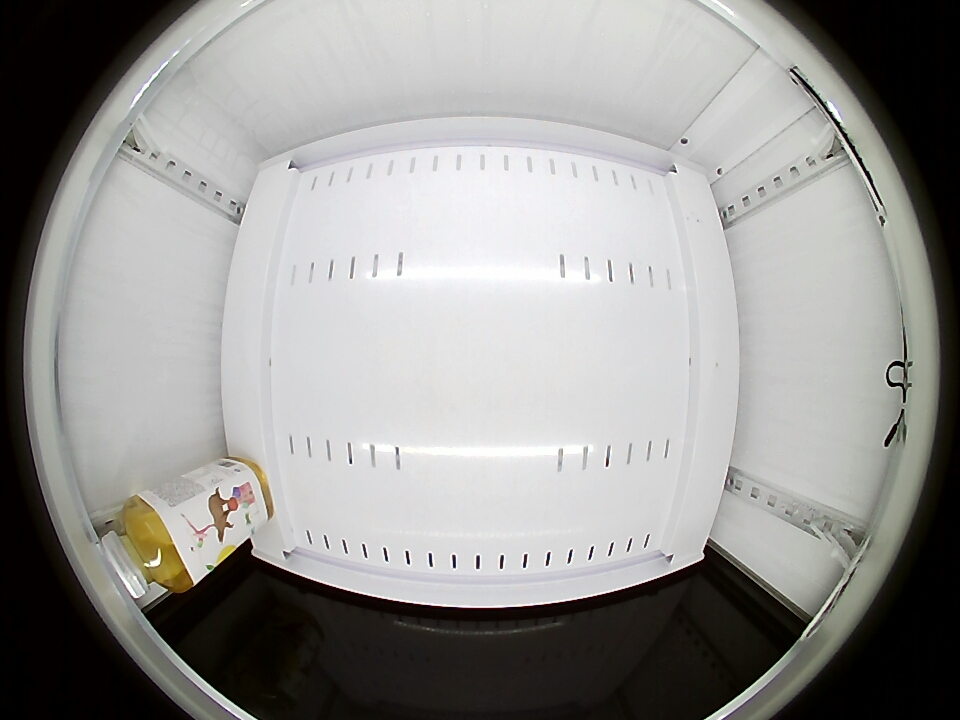chapai: (102, 493, 196, 597)
